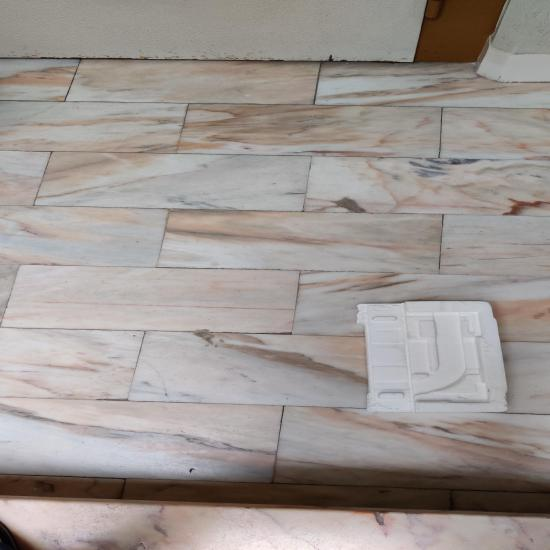Crisp packet: (406, 356, 550, 492)
Other plastic: (148, 218, 550, 423)
